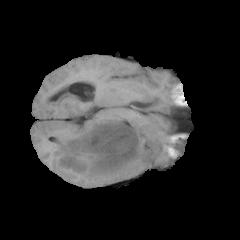glioma: (52, 119, 155, 183)
